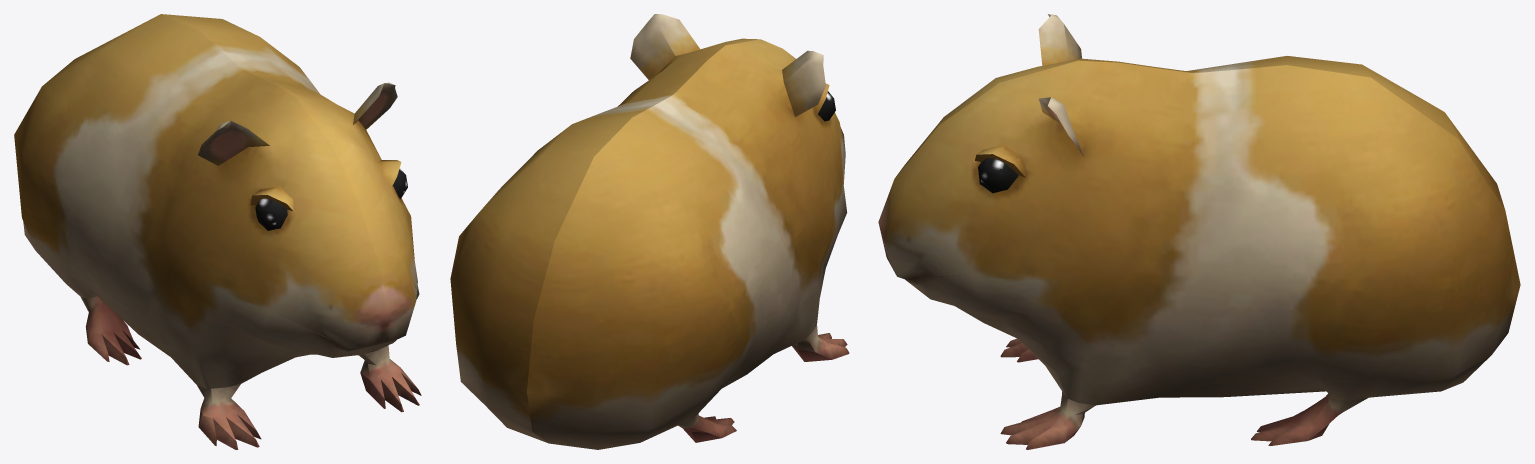
File: ramen.fbx
The picture shows the model from 3 angles, left to right: view 1: azimuth 30°, elevation 25°; view 2: azimuth 150°, elevation 25°; view 3: azimuth 270°, elevation 25°; orthographic projection. The views are drawn at different scales.
Parts seen in each view (by area): view 1: s4studio_mesh_5; view 2: s4studio_mesh_5; view 3: s4studio_mesh_5.
Boxes of the visible parts, x1=… form: s4studio_mesh_5: x1=14, y1=14, x2=421, y2=449; s4studio_mesh_5: x1=450, y1=14, x2=849, y2=449; s4studio_mesh_5: x1=878, y1=14, x2=1520, y2=449.
Size of the model in its own units: 7.14 by 7.9 by 13.58.
1 material, 1 textured.
